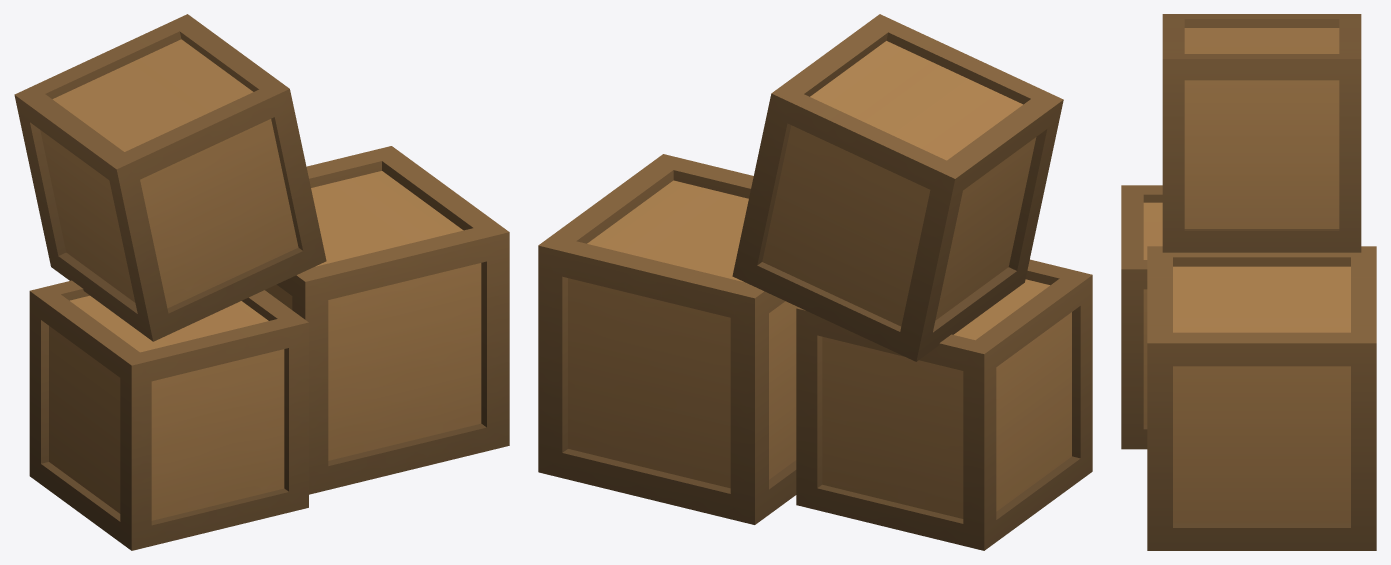
File: Crate_Stack.fbx
The picture shows the model from 3 angles, left to right: view 1: azimuth 30°, elevation 25°; view 2: azimuth 150°, elevation 25°; view 3: azimuth 270°, elevation 25°; orthographic projection. The views are drawn at different scales.
Visible parts, largest first — view 1: Cube.005; view 2: Cube.005; view 3: Cube.005.
Part boxes in pixels (<box>): Cube.005: <box>14,14,509,550</box>; Cube.005: <box>538,14,1092,550</box>; Cube.005: <box>1121,14,1376,550</box>.
Size of the model in its own units: 150 by 147 by 87.11.
